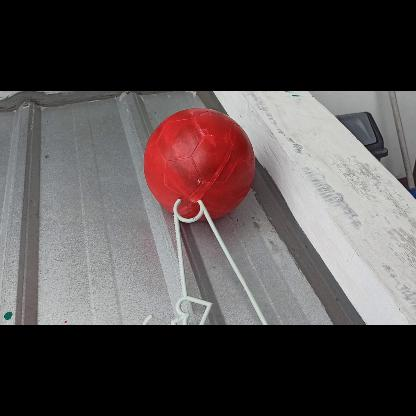red_ball: (141, 108, 254, 220)
